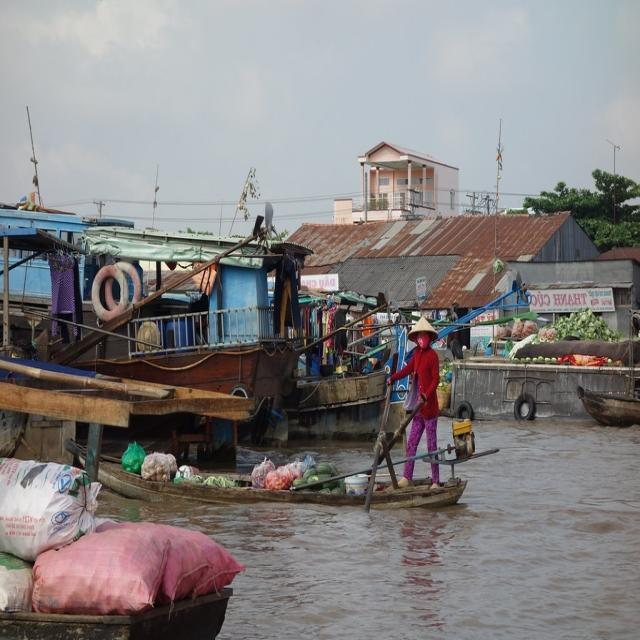boat: (66, 453, 485, 515)
